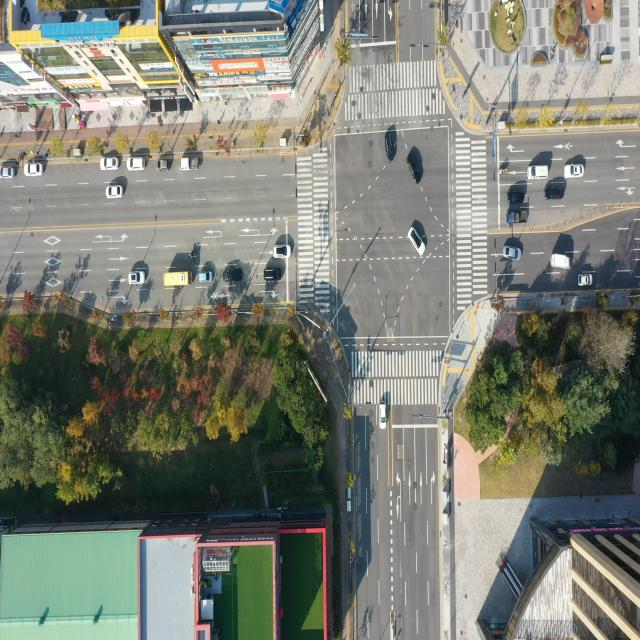car: (405, 150, 421, 185), (409, 227, 427, 256), (128, 158, 147, 173), (563, 164, 583, 178), (100, 158, 120, 172), (385, 132, 394, 163), (106, 184, 124, 199), (224, 270, 243, 284), (503, 246, 521, 260), (130, 272, 147, 286), (27, 164, 45, 177), (509, 190, 528, 202), (0, 166, 16, 180), (274, 245, 291, 258), (544, 187, 562, 199), (157, 160, 173, 173), (266, 270, 283, 282), (379, 401, 386, 428), (580, 274, 593, 288), (200, 272, 213, 284)
small_bus: (166, 272, 194, 290)
small_truck: (178, 158, 200, 173), (552, 253, 572, 269), (529, 165, 549, 180), (508, 211, 529, 225)
